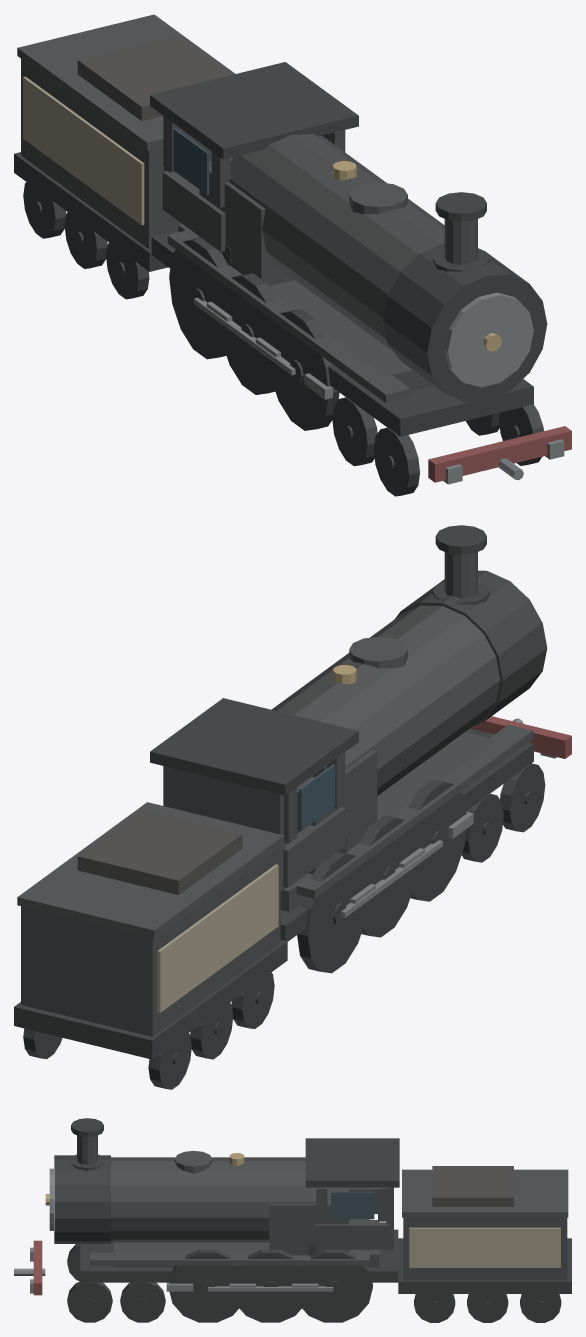
Rendered from lms_black_five_4-6-0.glb.
3 views of the same model, one above another, from view 1: azimuth 30°, elevation 25°; view 2: azimuth 150°, elevation 25°; view 3: azimuth 270°, elevation 25° (orthographic). The views are drawn at different scales.
Parts seen in each view (by area): view 1: boiler, smokebox, cab_roof, tender_panel_-1, tender_top_lip, tender_coal, tender_body, smokebox_door, engine_footplate, running_board_-1, wheel_driving_L_0, wheel_driving_L_1 (+18 smaller); view 2: boiler, tender_body, cab_roof, tender_top_lip, tender_coal, tender_panel_-1, smokebox, tender_underframe, cab_back, wheel_driving_L_2, running_board_-1, wheel_driving_L_0 (+17 smaller); view 3: boiler, tender_panel_1, tender_top_lip, cab_roof, smokebox, tender_body, wheel_driving_R_2, wheel_driving_R_0, wheel_driving_R_1, tender_coal, running_board_1, tender_underframe (+21 smaller).
Boxes of the visible parts, left/top/right/bottom form: boiler: left=229, top=134, right=444, bottom=351; smokebox: left=383, top=243, right=547, bottom=402; cab_roof: left=150, top=62, right=358, bottom=159; tender_panel_-1: left=23, top=76, right=144, bottom=225; tender_top_lip: left=17, top=14, right=235, bottom=150; tender_coal: left=77, top=35, right=231, bottom=120; tender_body: left=21, top=59, right=181, bottom=249; smokebox_door: left=444, top=292, right=533, bottom=387; engine_footplate: left=151, top=231, right=533, bottom=436; running_board_-1: left=167, top=230, right=410, bottom=402; wheel_driving_L_0: left=270, top=309, right=339, bottom=430; wheel_driving_L_1: left=219, top=273, right=278, bottom=394; boiler: left=271, top=605, right=500, bottom=795; tender_body: left=21, top=846, right=280, bottom=1036; cab_roof: left=150, top=698, right=358, bottom=795; tender_top_lip: left=17, top=802, right=284, bottom=938; tender_coal: left=77, top=809, right=242, bottom=894; tender_panel_-1: left=157, top=864, right=278, bottom=1012; smokebox: left=394, top=570, right=547, bottom=726; tender_underframe: left=14, top=940, right=287, bottom=1059; cab_back: left=164, top=766, right=285, bottom=891; wheel_driving_L_2: left=297, top=852, right=363, bottom=973; running_board_-1: left=296, top=724, right=533, bottom=898; wheel_driving_L_0: left=406, top=780, right=466, bottom=901; boiler: left=111, top=1157, right=316, bottom=1242; tender_panel_1: left=409, top=1227, right=560, bottom=1267; tender_top_lip: left=402, top=1169, right=568, bottom=1217; cab_roof: left=305, top=1138, right=399, bottom=1187; smokebox: left=54, top=1155, right=110, bottom=1243; tender_body: left=403, top=1217, right=567, bottom=1280; wheel_driving_R_2: left=295, top=1249, right=372, bottom=1322; wheel_driving_R_0: left=169, top=1249, right=246, bottom=1322; wheel_driving_R_1: left=232, top=1249, right=308, bottom=1322; tender_coal: left=432, top=1166, right=513, bottom=1206; running_board_1: left=90, top=1252, right=369, bottom=1265; tender_underframe: left=398, top=1238, right=571, bottom=1293.
Bounding box in the file's own units: 2.32 × 4.04 × 11.57.
